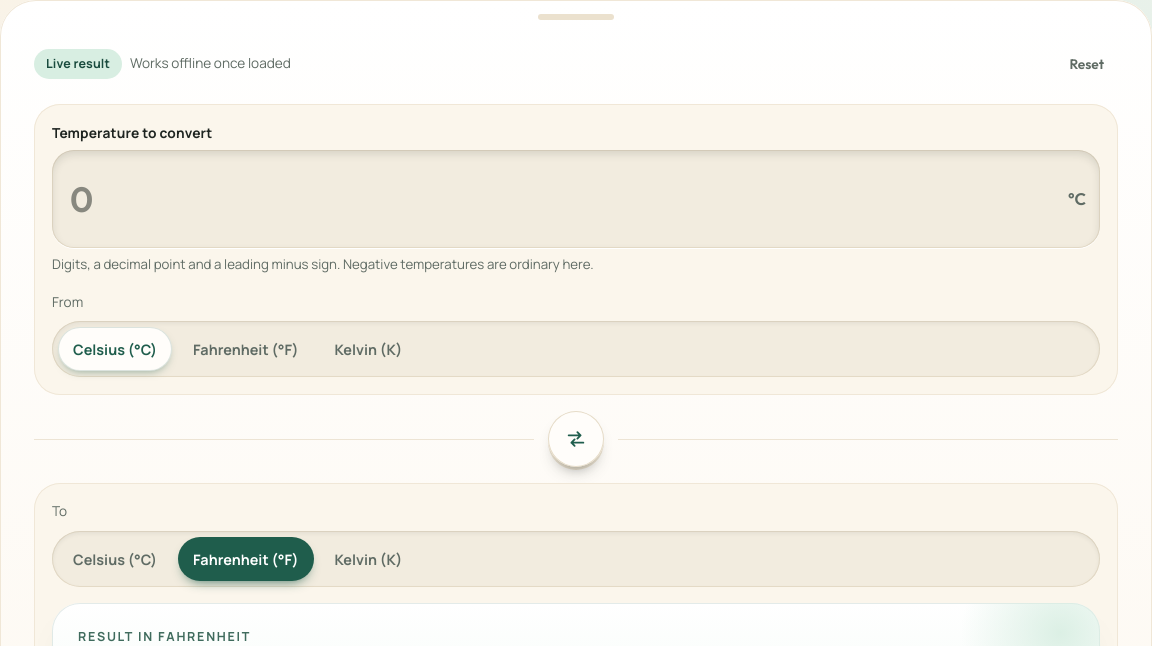
Scenario: TemperatureConverter › refuses -300 on Celsius (°C) as below absolute zero
Click the radio button labelled "Celsius (°C)" below "From": (115, 349) [58,327,172,371]
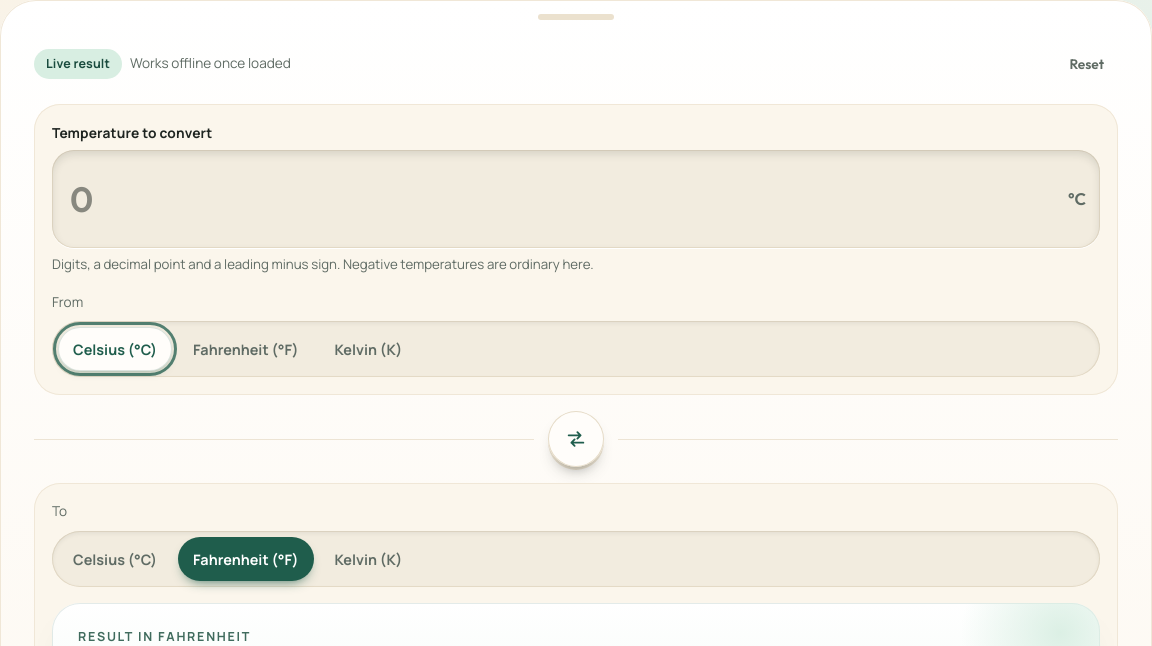
In the field labelled "Temperature to convert": (563, 199) [66,158,1060,240], type "-300"
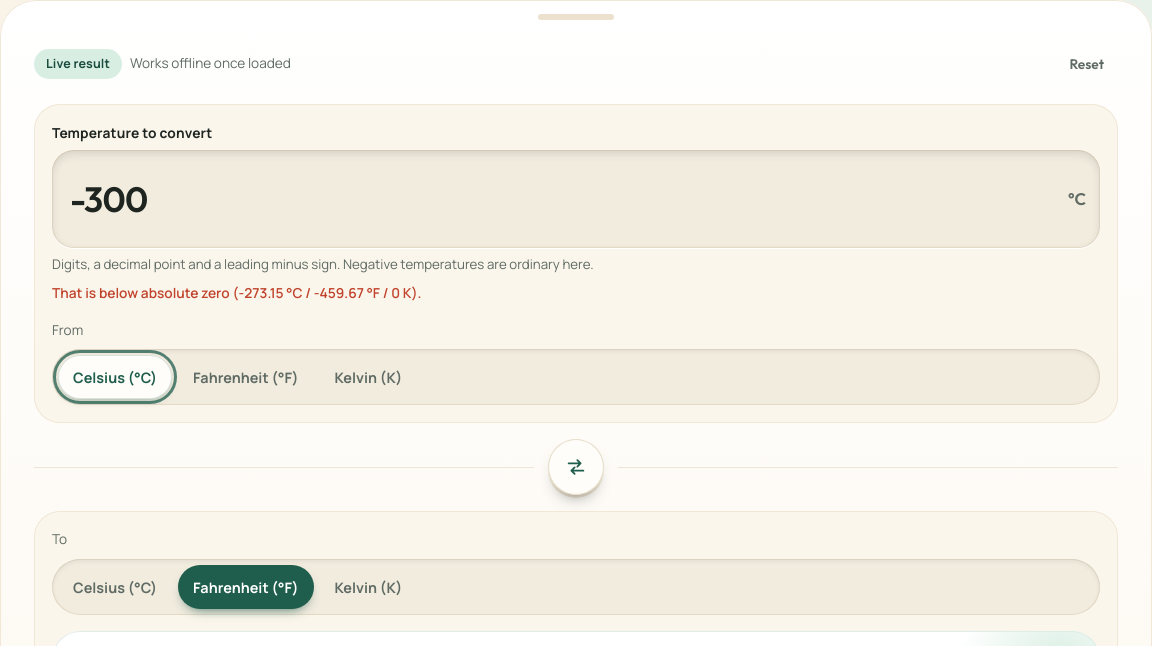
Expected: the message reads "That is below absolute zero (-273.15 °C / -459.67 °F / 0 K).", [52,283,422,302]
